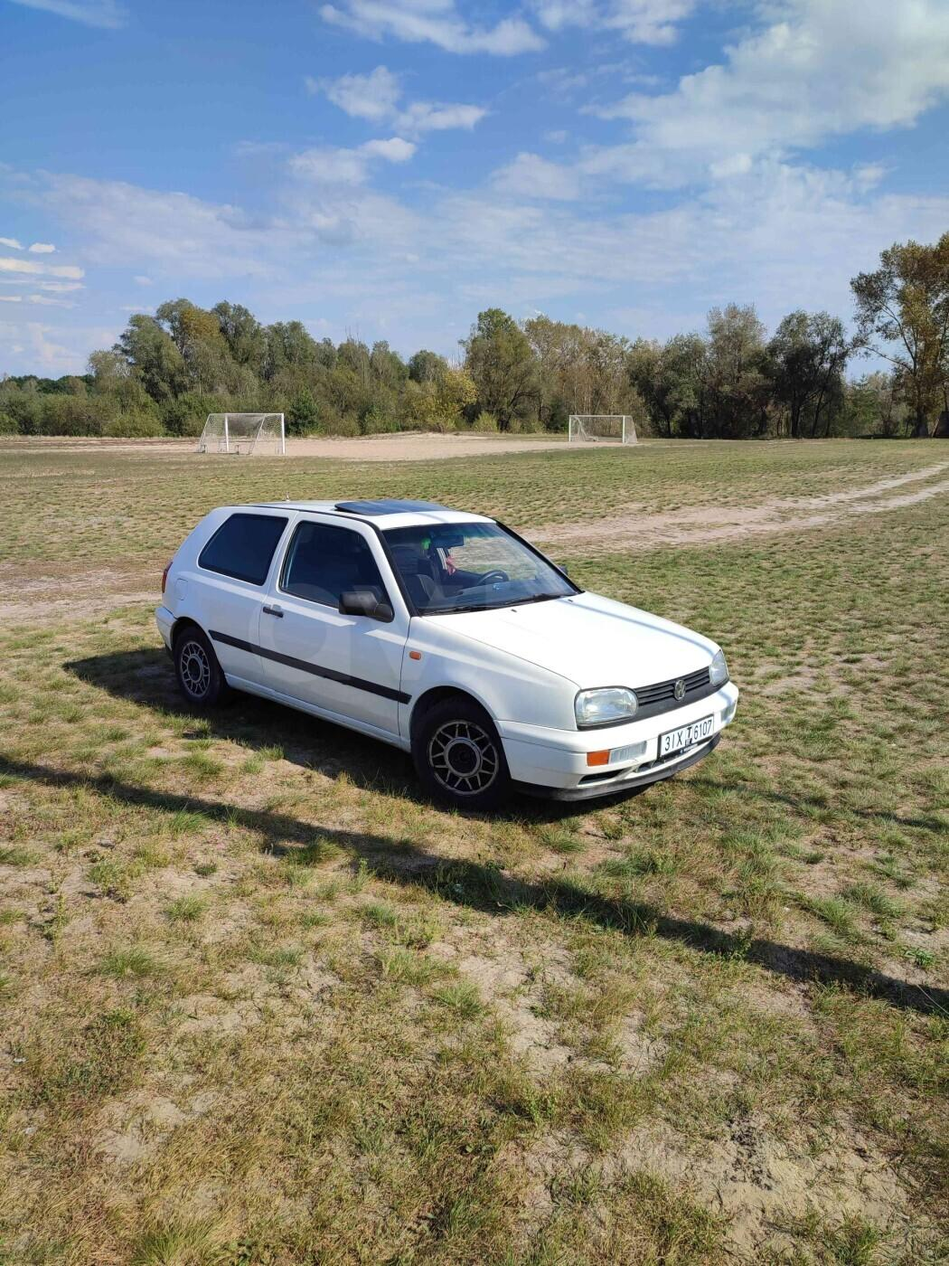Golf_1991-2000: (156, 502, 747, 825)
